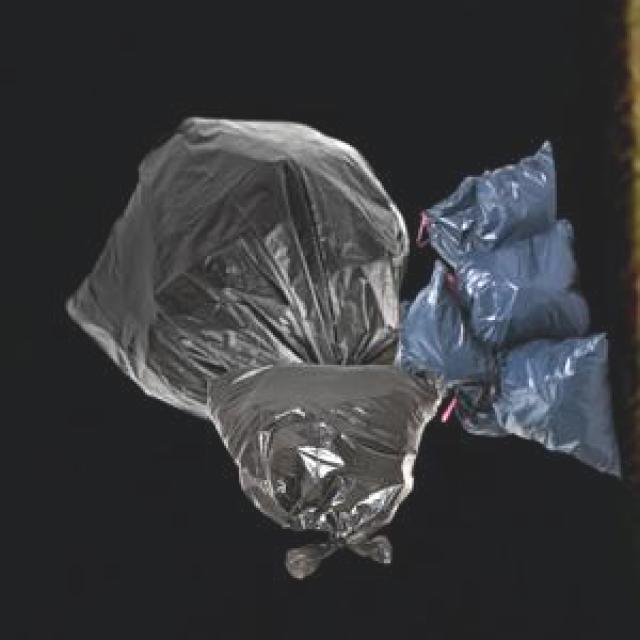Trashbag: (68, 112, 412, 375), (204, 347, 443, 546), (487, 329, 625, 481), (463, 223, 596, 343), (425, 145, 558, 258)
